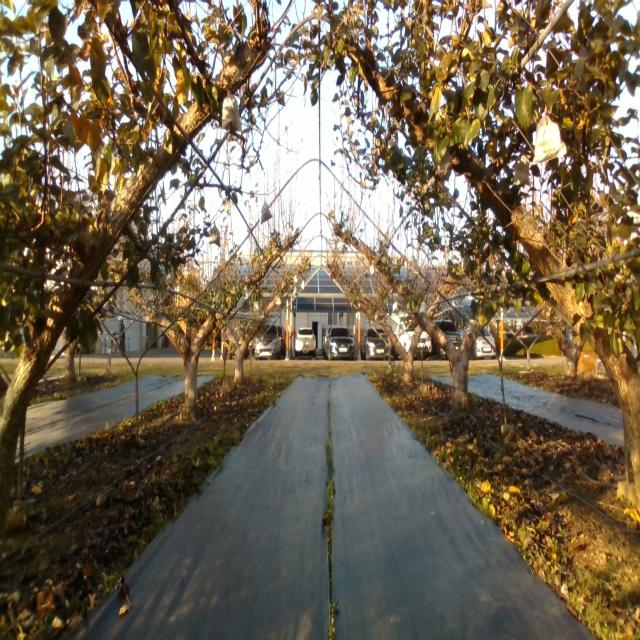pearbags: (534, 114, 566, 164), (222, 93, 242, 131), (513, 156, 531, 187), (261, 202, 273, 224), (209, 222, 220, 246)
